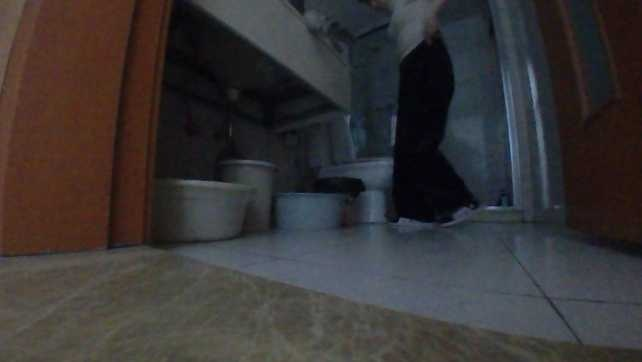door_sill: (0, 245, 640, 360)
toilet: (310, 113, 394, 223)
